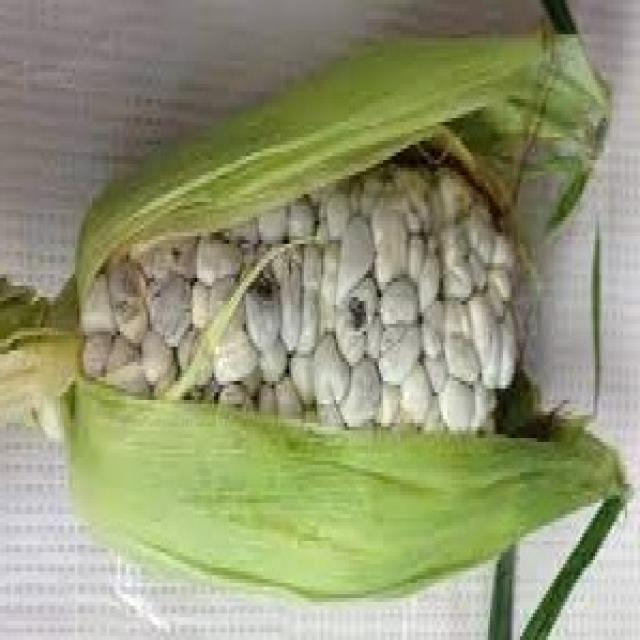Leaf_Scald: (49, 38, 604, 623)
